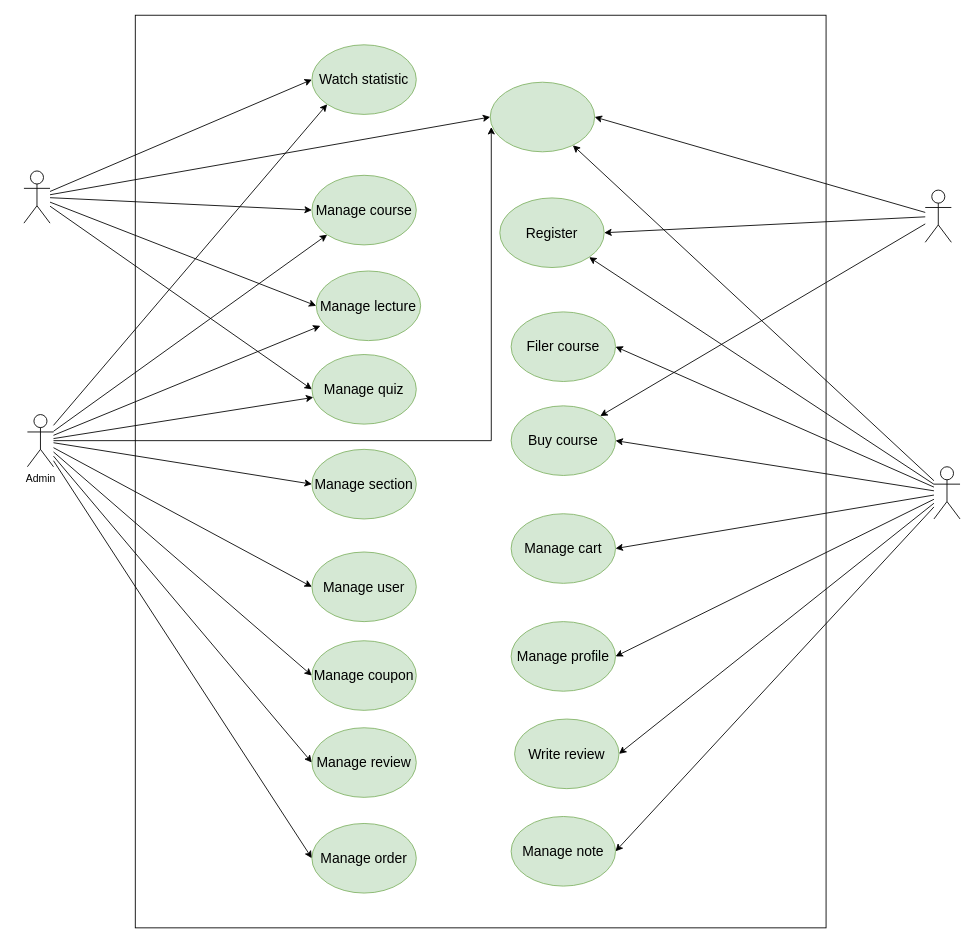
Image size: 980x943. Some labels were removed from this diagram. The centre of each missing label's shape, as x and y in pixels:
Guest: the point at 937,215
Instructor: the point at 36,196
Login: the point at 542,116
Student: the point at 946,492
